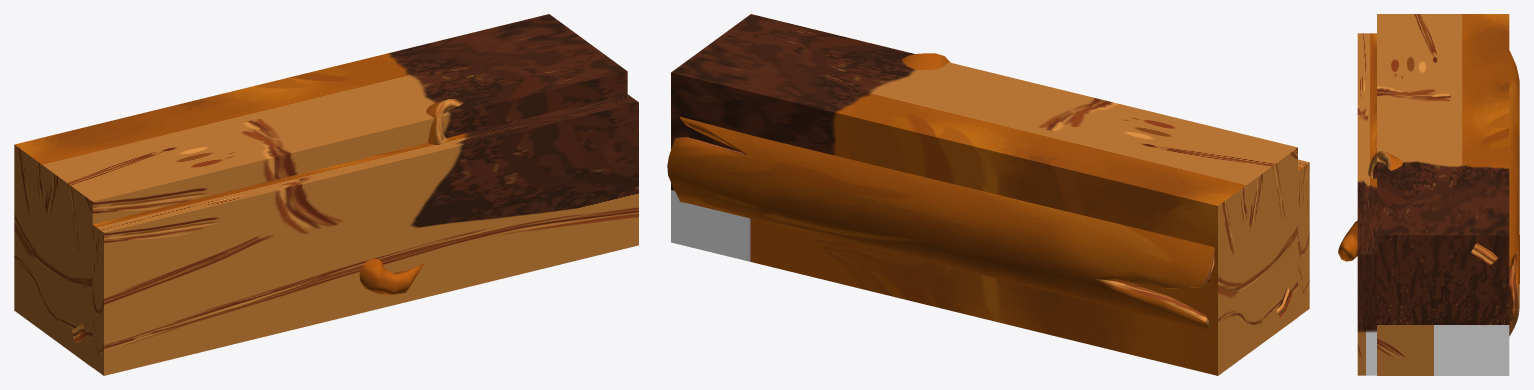
The model's file is TRE_HST.fbx.
The picture shows the model from 3 angles, left to right: view 1: azimuth 30°, elevation 25°; view 2: azimuth 150°, elevation 25°; view 3: azimuth 270°, elevation 25°; orthographic projection. The views are drawn at different scales.
Parts seen in each view (by area): view 1: TRE_HST_cln1, TRE_HST_cln2, TRE_HST; view 2: TRE_HST_cln2, TRE_HST, TRE_HST_cln1; view 3: TRE_HST_cln2, TRE_HST_cln1, TRE_HST.
Boxes of the visible parts, box(x1,y1,x2,y2) form: TRE_HST_cln1: box(92, 94, 638, 375); TRE_HST_cln2: box(14, 14, 627, 367); TRE_HST: box(72, 99, 463, 342); TRE_HST_cln2: box(671, 14, 1297, 375); TRE_HST: box(667, 53, 1292, 329); TRE_HST_cln1: box(1298, 159, 1309, 316); TRE_HST_cln2: box(1377, 14, 1509, 375); TRE_HST_cln1: box(1357, 33, 1376, 375); TRE_HST: box(1338, 50, 1519, 336).
Bounding box in the file's own units: 342 × 106 × 118.
